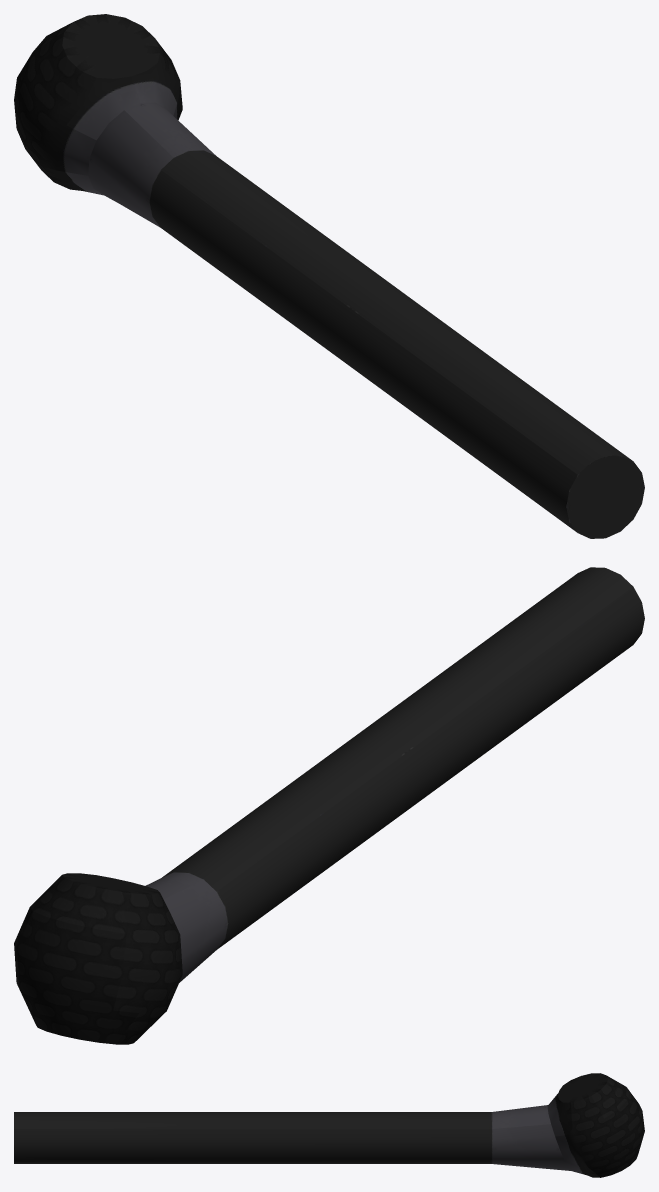
File: foot.obj
3 renders of one model, top to bottom at view 1: azimuth 30°, elevation 25°; view 2: azimuth 150°, elevation 25°; view 3: azimuth 270°, elevation 25°, orthographic. The views are drawn at different scales.
Size of the model in its own units: 0.0672 by 0.0687 by 0.4288.
